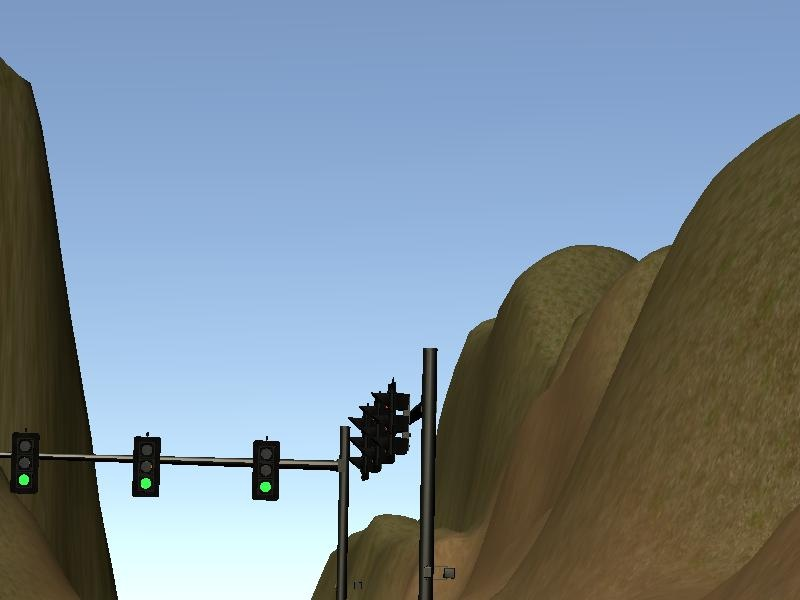green: (9, 432, 42, 496), (251, 441, 281, 497), (134, 438, 159, 496)
